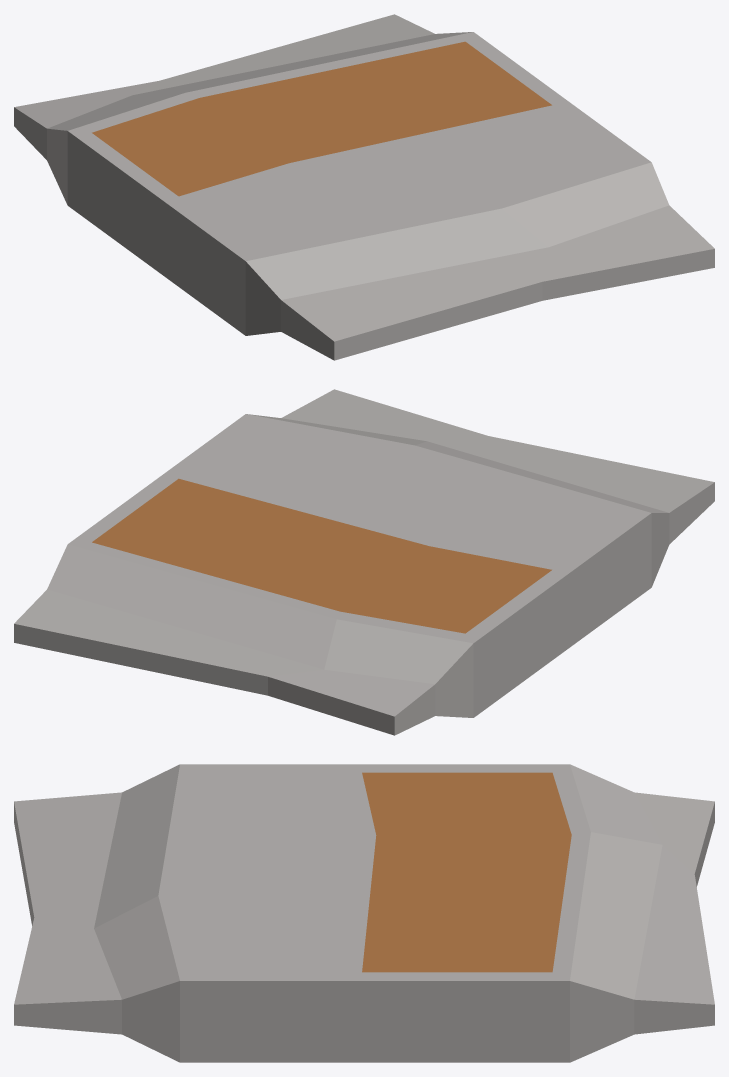
Rendered from SM_Item_Meal_Sachet_01.fbx.
3 renders of one model, top to bottom at view 1: azimuth 30°, elevation 25°; view 2: azimuth 150°, elevation 25°; view 3: azimuth 270°, elevation 25°, orthographic. The views are drawn at different scales.
Parts seen in each view (by area): view 1: SM_Item_Meal_Sachet_01; view 2: SM_Item_Meal_Sachet_01; view 3: SM_Item_Meal_Sachet_01.
Boxes of the visible parts, x1=… form: SM_Item_Meal_Sachet_01: x1=14, y1=14, x2=714, y2=360; SM_Item_Meal_Sachet_01: x1=14, y1=389, x2=714, y2=735; SM_Item_Meal_Sachet_01: x1=14, y1=764, x2=714, y2=1062.
Size of the model in its own units: 12.01 by 2.11 by 16.41.
